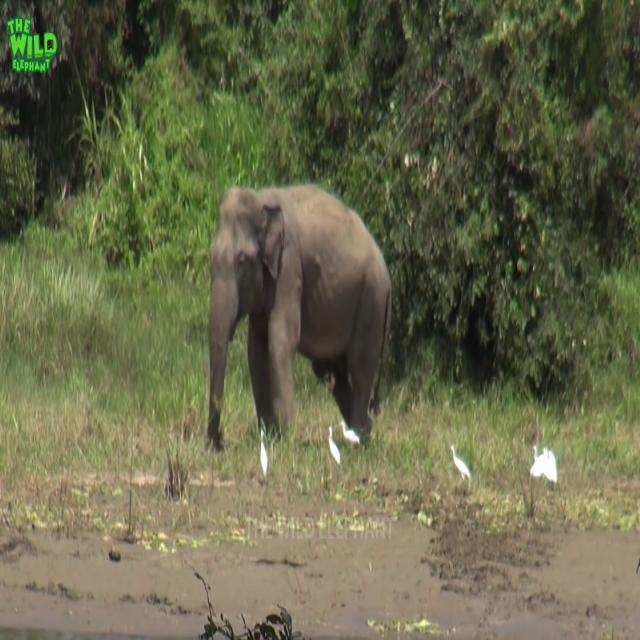Elephant: (206, 182, 392, 451)
